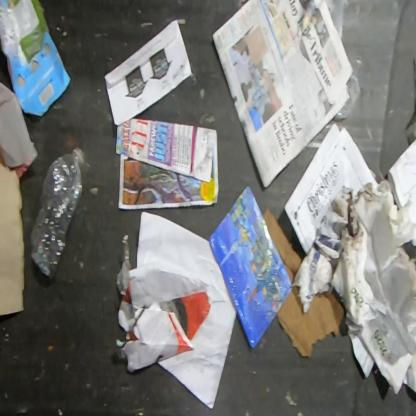cardboard: (277, 284, 346, 359), (262, 206, 304, 285)
rigid_plastic: (29, 145, 87, 282)
soft_plastic: (333, 72, 362, 124)
